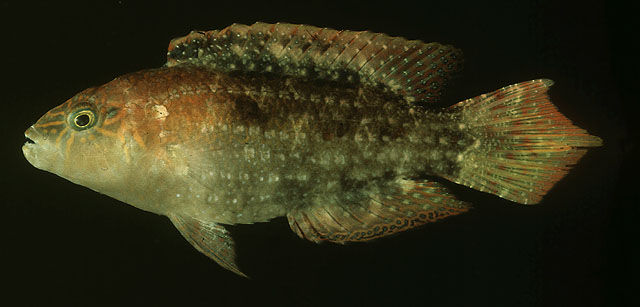fish: (21, 23, 603, 277)
